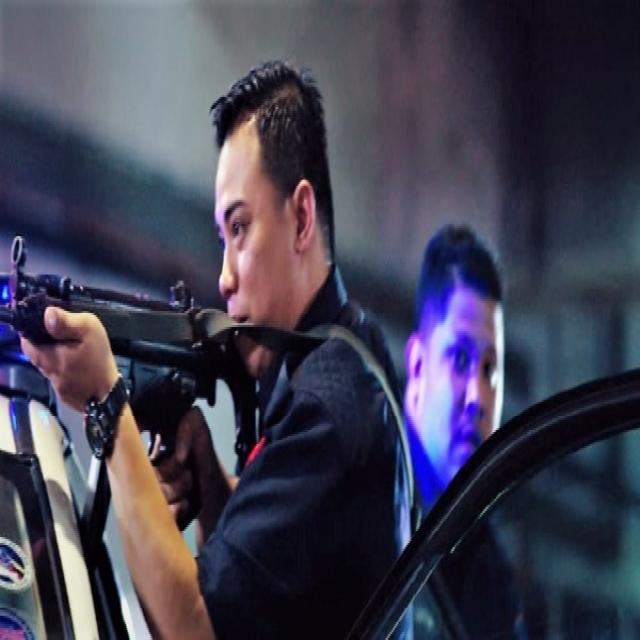rifle: (1, 230, 258, 530)
